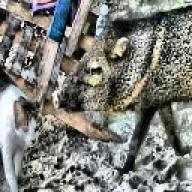boar: (52, 0, 192, 174)
